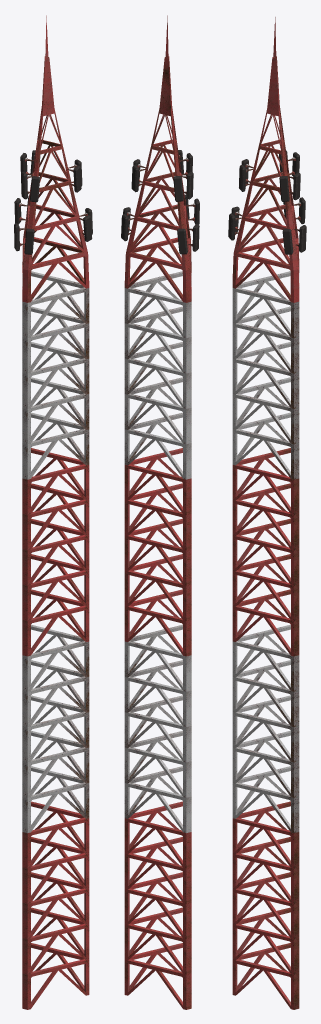
Rendered from simple_signal_tower.glb.
The picture shows the model from 3 angles, left to right: view 1: azimuth 30°, elevation 25°; view 2: azimuth 210°, elevation 25°; view 3: azimuth 330°, elevation 25°; orthographic projection.
Parts seen in each view (by area): view 1: Maszt4, Maszt2, Maszt1, Maszt3, MasztTop, Cube.006, Cube.005; view 2: Maszt4, Maszt2, Maszt1, Maszt3, MasztTop, Cube.012, Cube.011; view 3: Maszt4, Maszt2, Maszt1, Maszt3, MasztTop, Cube.004, Cube.003, Cube.001, Cube.002.
Boxes of the visible parts, x1=… form: Maszt4: x1=22, y1=271, x2=89, y2=479; Maszt2: x1=22, y1=624, x2=89, y2=833; Maszt1: x1=22, y1=801, x2=89, y2=1009; Maszt3: x1=22, y1=448, x2=89, y2=656; MasztTop: x1=22, y1=15, x2=89, y2=302; Cube.006: x1=24, y1=228, x2=34, y2=254; Cube.005: x1=30, y1=176, x2=39, y2=202; Maszt4: x1=124, y1=271, x2=191, y2=479; Maszt2: x1=124, y1=624, x2=191, y2=833; Maszt1: x1=124, y1=801, x2=191, y2=1009; Maszt3: x1=124, y1=448, x2=191, y2=656; MasztTop: x1=124, y1=15, x2=191, y2=302; Cube.012: x1=177, y1=228, x2=187, y2=254; Cube.011: x1=173, y1=175, x2=183, y2=201; Maszt4: x1=232, y1=271, x2=299, y2=479; Maszt2: x1=232, y1=624, x2=299, y2=832; Maszt1: x1=232, y1=801, x2=299, y2=1009; Maszt3: x1=232, y1=448, x2=299, y2=656; MasztTop: x1=232, y1=17, x2=299, y2=302; Cube.004: x1=282, y1=228, x2=293, y2=254; Cube.003: x1=279, y1=176, x2=289, y2=201; Cube.001: x1=287, y1=172, x2=300, y2=200; Cube.002: x1=293, y1=225, x2=306, y2=252.
Size of the model in its own units: 244 by 3048 by 221.
1 material, 1 textured.
